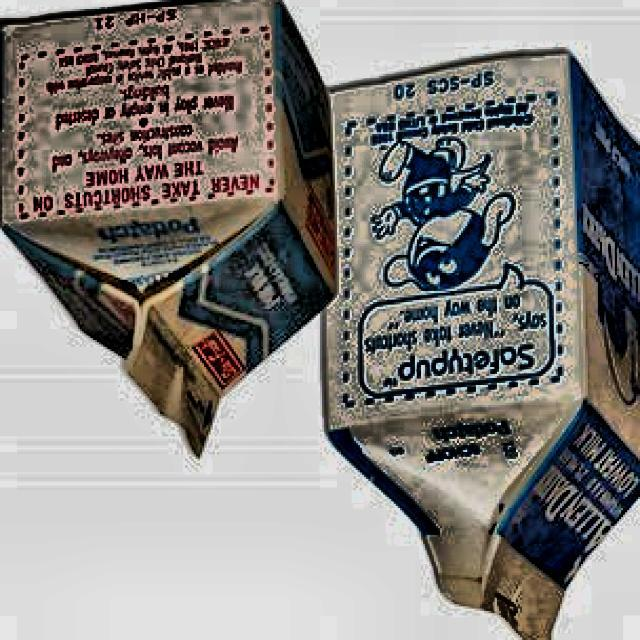cardboard: (322, 51, 640, 640), (0, 0, 339, 461)
